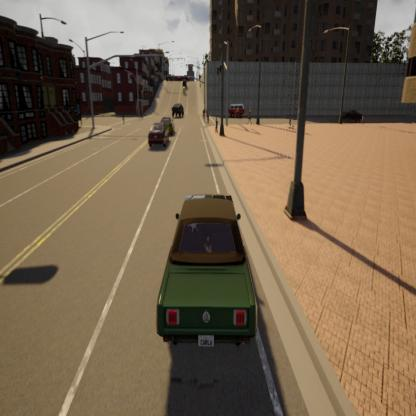Cars: (150, 190, 263, 358), (146, 119, 170, 151), (338, 106, 366, 127), (157, 116, 177, 139), (170, 102, 186, 120), (227, 102, 245, 118), (182, 75, 187, 87), (180, 86, 186, 94)
Pedestrian: (119, 105, 128, 126), (246, 105, 254, 127), (205, 106, 212, 125), (360, 109, 366, 129), (201, 105, 207, 123), (214, 116, 219, 136)
